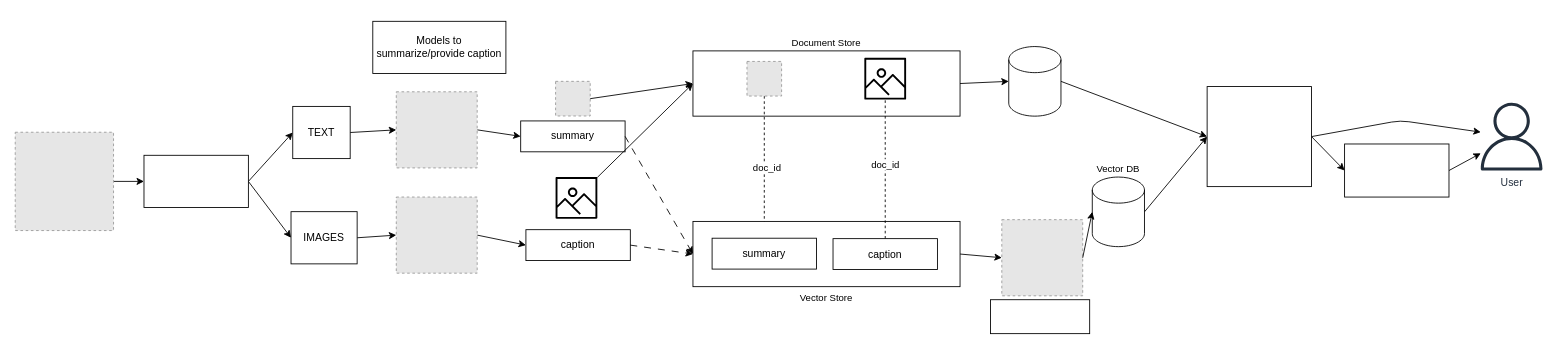
Some shapes in this 1561 by 349 pixel diagram are drawn without their labels. Grey dashed boxes stand in for pictures. Each missing label, with the centre of its shape:
"Augment Answer with LLM" goes at (1396,170).
"Document DB" goes at (1034,81).
"Query Semantic Retrieval of similar text and images" goes at (1259,136).
"text embedding" goes at (1040,316).
"unstructured python library" goes at (195,180).
